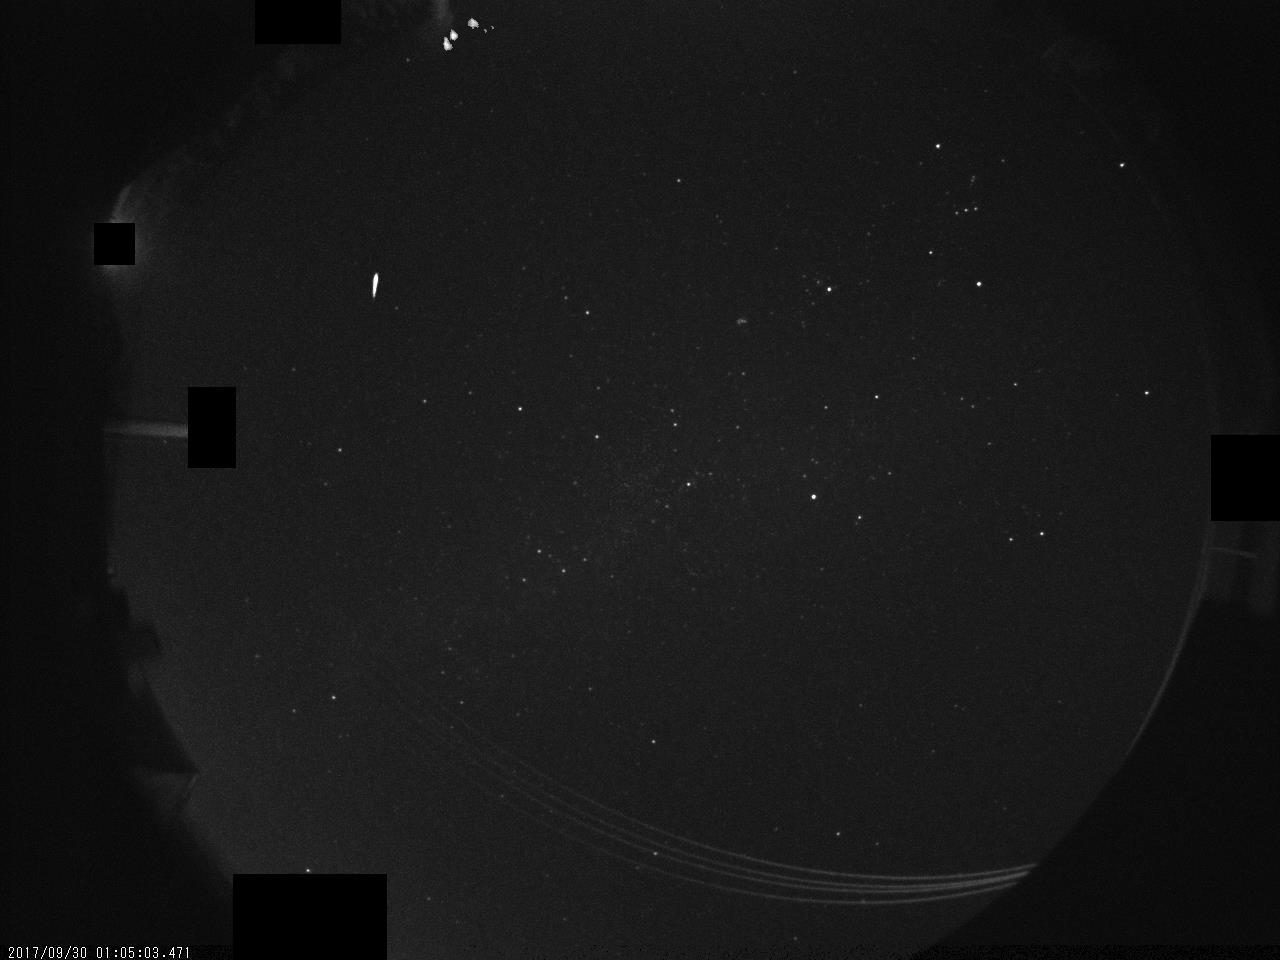TLE: (430, 0, 517, 74)
